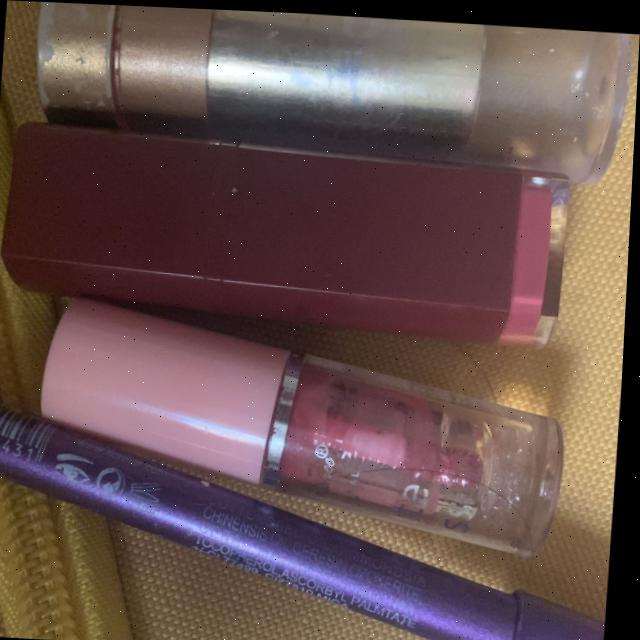lip gloss: (33, 306, 571, 556)
lip stick: (0, 117, 619, 359), (20, 1, 634, 188)
